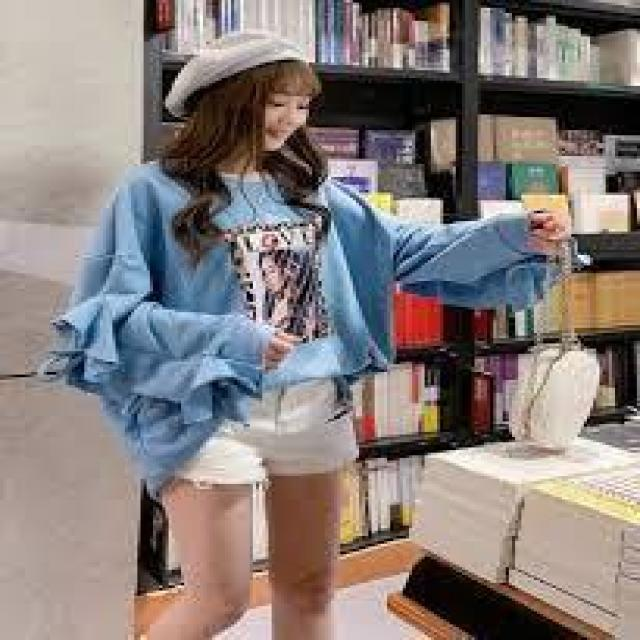short: (138, 377, 372, 484)
sweater: (29, 154, 564, 478)
